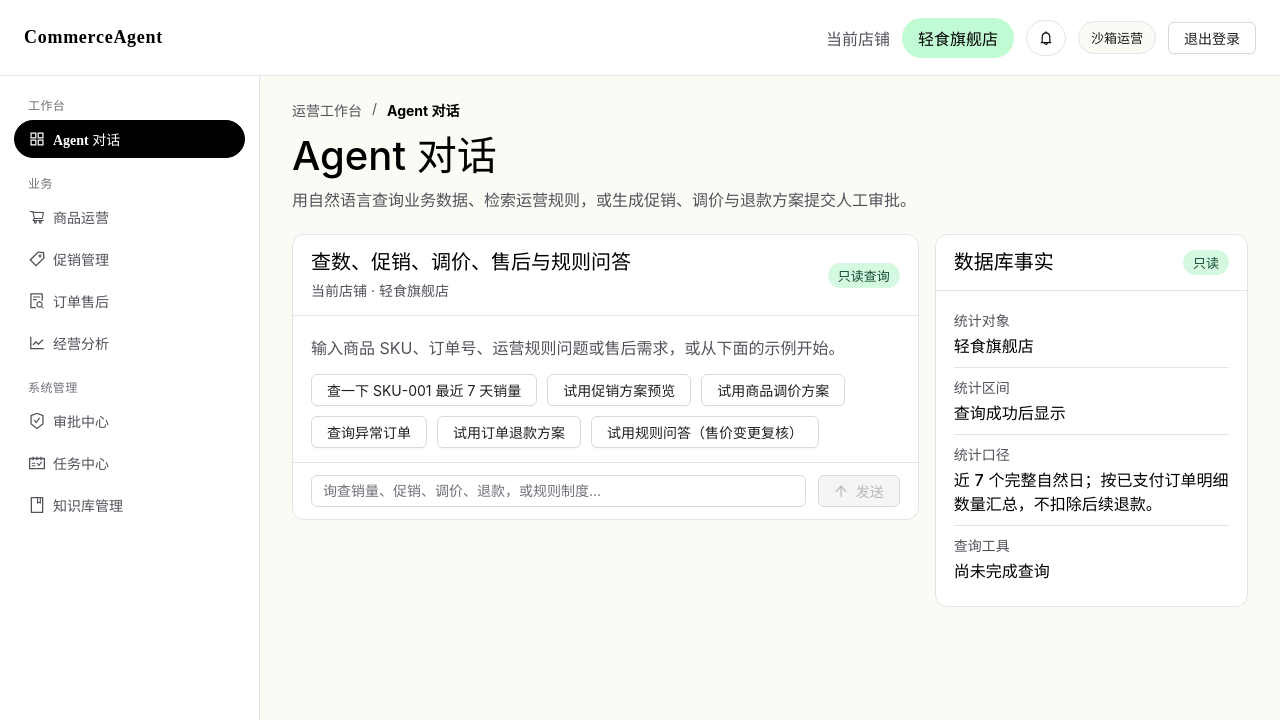
Test: keeps the question available when the model request fails
Type "SKU-001 最近 7 天卖了多少件？" into the field named "输入查数问题" at coordinates (558, 491), box [311,475,806,507]
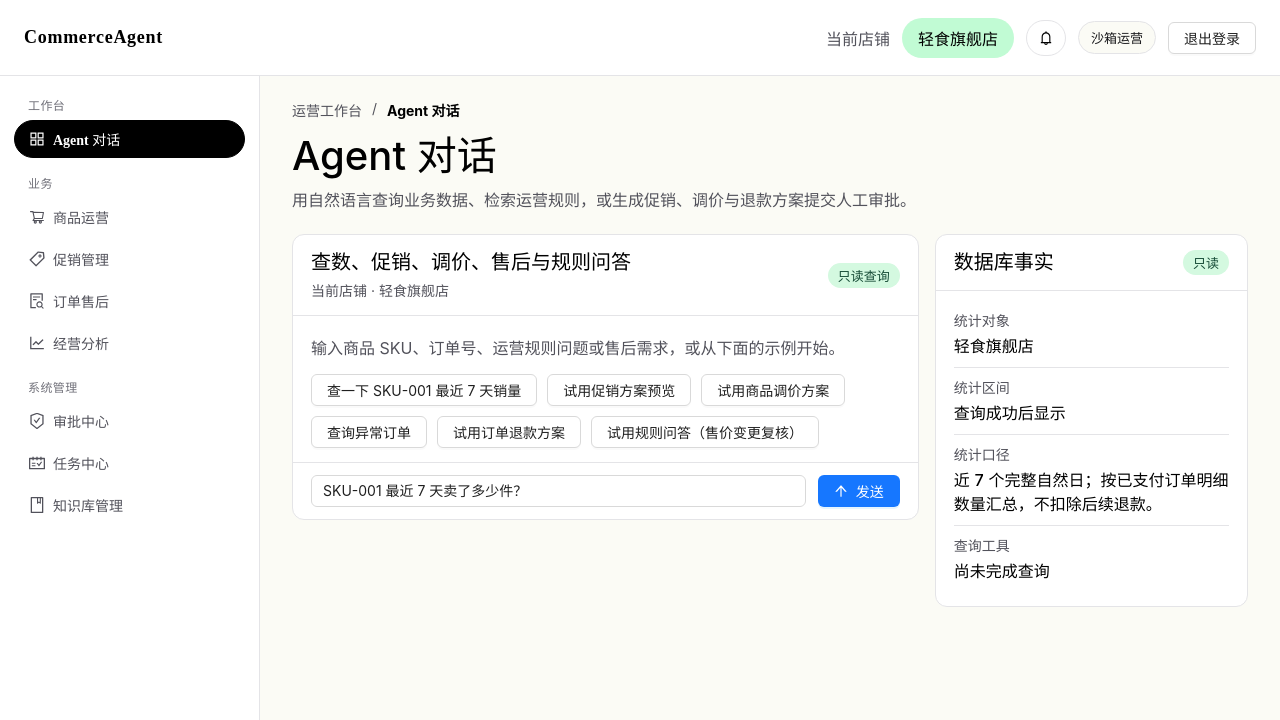
Click the button "发送" at coordinates (859, 491), box [818,475,900,507]
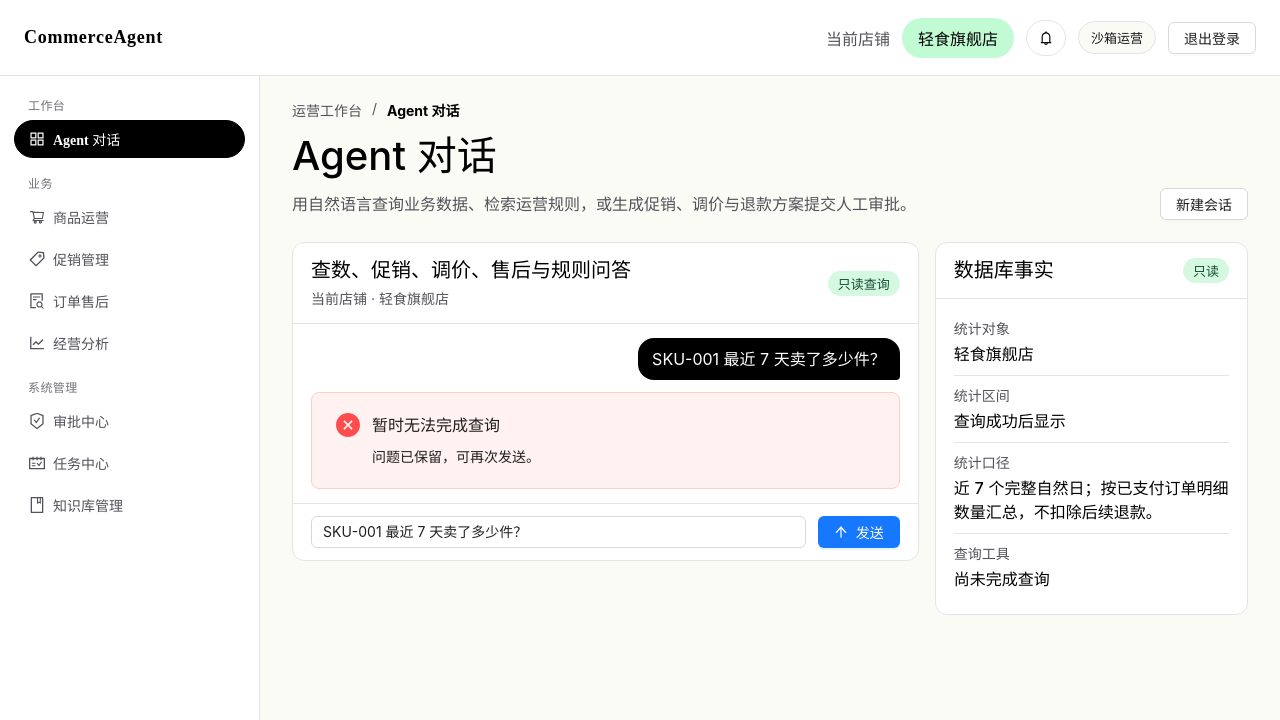
Expected: the message shows "暂时无法完成查询", [372,415,500,435]
